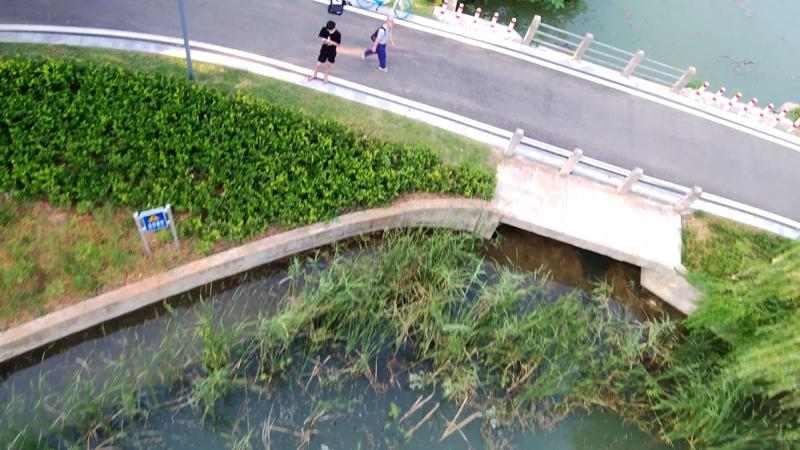passerby: (304, 20, 341, 83), (360, 14, 395, 75)
